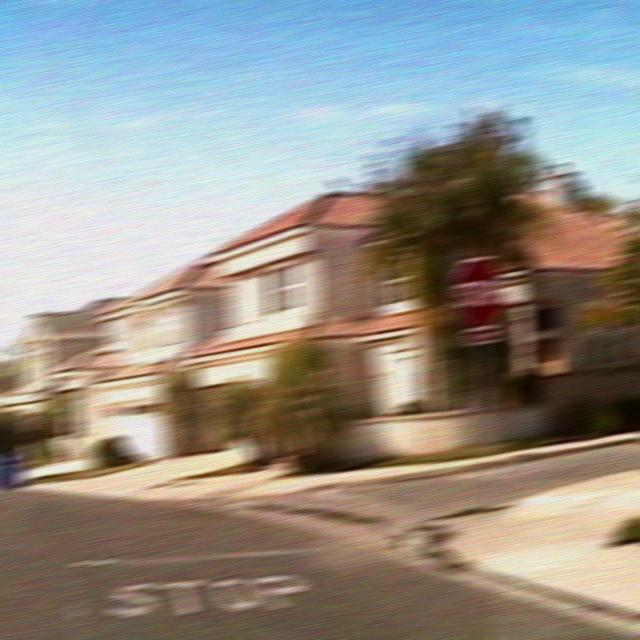stop_sign: (450, 256, 508, 328)
